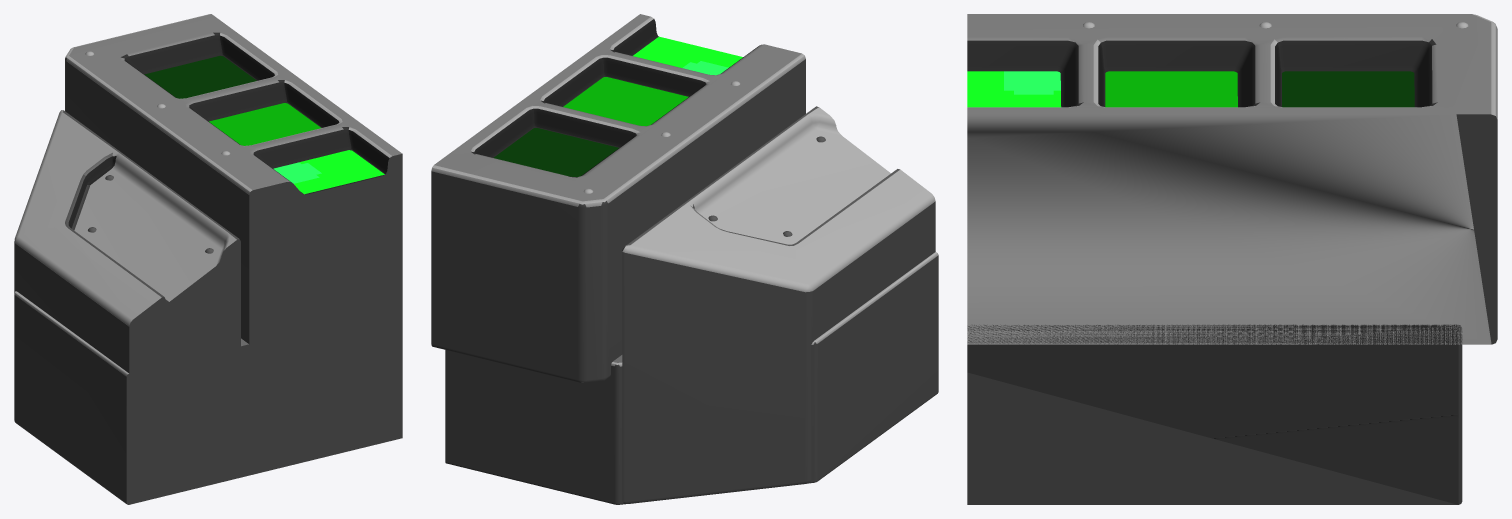
File: window_block_tl_11.glb
The picture shows the model from 3 angles, left to right: view 1: azimuth 30°, elevation 25°; view 2: azimuth 150°, elevation 25°; view 3: azimuth 270°, elevation 25°; orthographic projection. The views are drawn at different scales.
Parts seen in each view (by area): view 1: tower.001, plinth.001, wing.001, glass0.001, glass1.001, glass2.001; view 2: wing.001, tower.001, plinth.001, glass1.001, glass0.001, glass2.001; view 3: tower.001, plinth.001, glass0.001, glass1.001, glass2.001.
Boxes of the visible parts, bbox=[...] form: tower.001: bbox=[65, 14, 402, 357]; plinth.001: bbox=[14, 291, 402, 504]; wing.001: bbox=[14, 110, 240, 502]; glass0.001: bbox=[144, 55, 256, 98]; glass1.001: bbox=[209, 103, 320, 145]; glass2.001: bbox=[273, 150, 384, 194]; wing.001: bbox=[622, 106, 935, 503]; tower.001: bbox=[431, 14, 805, 382]; plinth.001: bbox=[445, 252, 938, 504]; glass1.001: bbox=[563, 77, 688, 126]; glass0.001: bbox=[493, 128, 618, 176]; glass2.001: bbox=[633, 36, 742, 75]; tower.001: bbox=[967, 14, 1497, 344]; plinth.001: bbox=[967, 324, 1462, 504]; glass0.001: bbox=[1282, 71, 1414, 107]; glass1.001: bbox=[1105, 71, 1237, 107]; glass2.001: bbox=[967, 71, 1061, 107].
Size of the model in its own units: 19.8 by 19.64 by 24.
